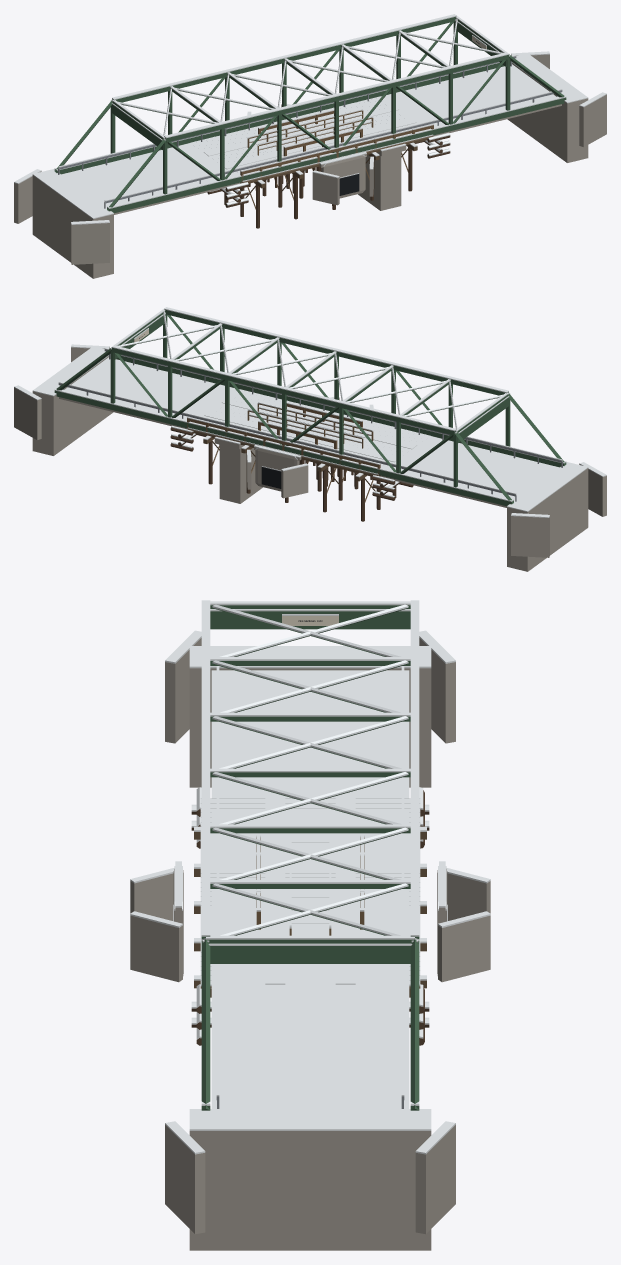
Rendered from bridges_library.glb.
3 views of the same model, one above another, from view 1: azimuth 30°, elevation 25°; view 2: azimuth 150°, elevation 25°; view 3: azimuth 270°, elevation 25° (orthographic). The views are drawn at different scales.
Parts seen in each view (by area): view 1: bridge_truss_main, bridge_truss_snow, bridge_trestle_snow, bridge_trestle_main, bridge_culvert_main, bridge_footbridge_main, bridge_footbridge_snow, bridge_trail_trestle_bay_main, bridge_trail_trestle_bay_snow, bridge_culvert_snow; view 2: bridge_truss_main, bridge_truss_snow, bridge_trestle_main, bridge_trestle_snow, bridge_culvert_main, bridge_footbridge_main, bridge_footbridge_snow, bridge_trail_trestle_bay_main, bridge_trail_trestle_bay_snow, bridge_culvert_snow; view 3: bridge_truss_snow, bridge_truss_main, bridge_trestle_snow, bridge_culvert_main, bridge_culvert_snow, bridge_trestle_main, bridge_footbridge_snow.
Boxes of the visible parts, left/top/right/bottom form: bridge_truss_main: left=14, top=16, right=606, bottom=278; bridge_truss_snow: left=14, top=14, right=606, bottom=224; bridge_trestle_snow: left=190, top=96, right=450, bottom=205; bridge_trestle_main: left=207, top=125, right=450, bottom=228; bridge_culvert_main: left=281, top=105, right=373, bottom=205; bridge_footbridge_main: left=247, top=110, right=373, bottom=187; bridge_footbridge_snow: left=247, top=109, right=373, bottom=154; bridge_trail_trestle_bay_main: left=258, top=111, right=362, bottom=198; bridge_trail_trestle_bay_snow: left=258, top=109, right=362, bottom=154; bridge_culvert_snow: left=247, top=104, right=373, bottom=178; bridge_truss_main: left=14, top=309, right=606, bottom=571; bridge_truss_snow: left=14, top=307, right=606, bottom=517; bridge_trestle_main: left=170, top=418, right=413, bottom=521; bridge_trestle_snow: left=171, top=389, right=430, bottom=497; bridge_culvert_main: left=247, top=398, right=339, bottom=498; bridge_footbridge_main: left=247, top=403, right=373, bottom=480; bridge_footbridge_snow: left=247, top=402, right=373, bottom=447; bridge_trail_trestle_bay_main: left=258, top=404, right=362, bottom=491; bridge_trail_trestle_bay_snow: left=258, top=402, right=362, bottom=447; bridge_culvert_snow: left=247, top=397, right=373, bottom=471; bridge_truss_snow: left=165, top=600, right=455, bottom=1154; bridge_truss_main: left=165, top=605, right=455, bottom=1250; bridge_trestle_snow: left=191, top=787, right=429, bottom=1039; bridge_culvert_main: left=130, top=869, right=490, bottom=982; bridge_culvert_snow: left=130, top=861, right=490, bottom=927; bridge_trestle_main: left=191, top=790, right=429, bottom=1045; bridge_footbridge_snow: left=289, top=814, right=331, bottom=933.
Size of the model in its own units: 56.22 by 13 by 16.4.
